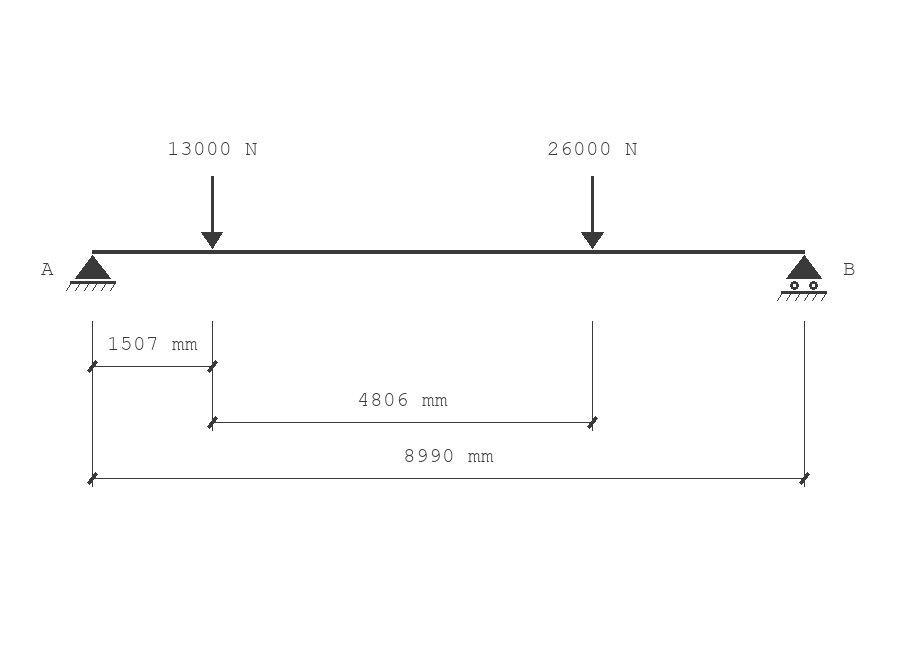pin_support: (66, 255, 116, 291)
point_load: (581, 176, 604, 249), (201, 176, 223, 249)
roller_support: (777, 255, 827, 301)
